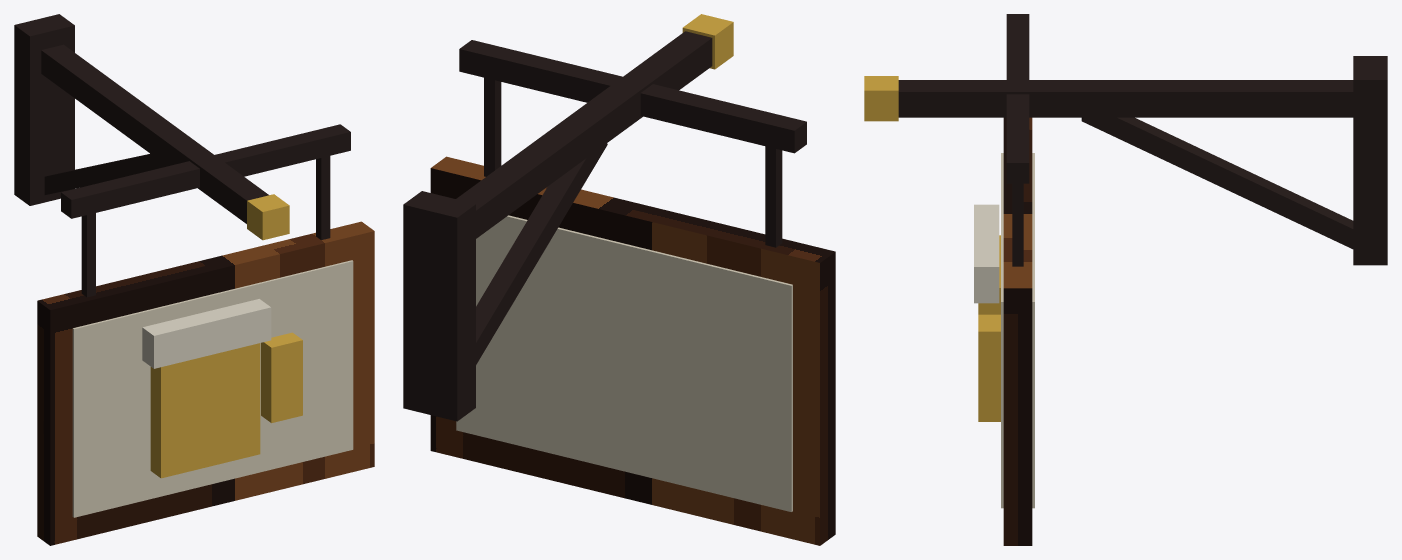
File: hanging_sign_mug.glb
The picture shows the model from 3 angles, left to right: view 1: azimuth 30°, elevation 25°; view 2: azimuth 150°, elevation 25°; view 3: azimuth 270°, elevation 25°; orthographic projection. The views are drawn at different scales.
Parts seen in each view (by area): view 1: hanging_sign_mug; view 2: hanging_sign_mug; view 3: hanging_sign_mug.
Boxes of the visible parts, x1=… form: hanging_sign_mug: x1=14, y1=14, x2=374, y2=545; hanging_sign_mug: x1=403, y1=14, x2=835, y2=545; hanging_sign_mug: x1=864, y1=14, x2=1387, y2=545.
Bounding box in the file's own units: 0.72 × 0.76 × 0.92.
Materials: 2 (1 with a texture image).
